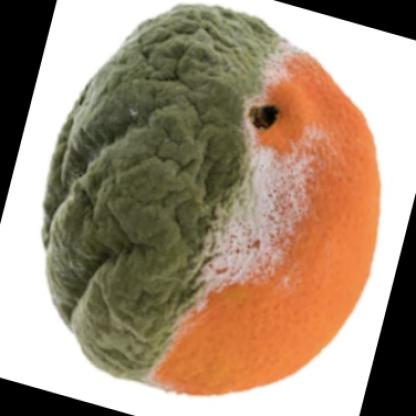rotten: (46, 7, 382, 396)
